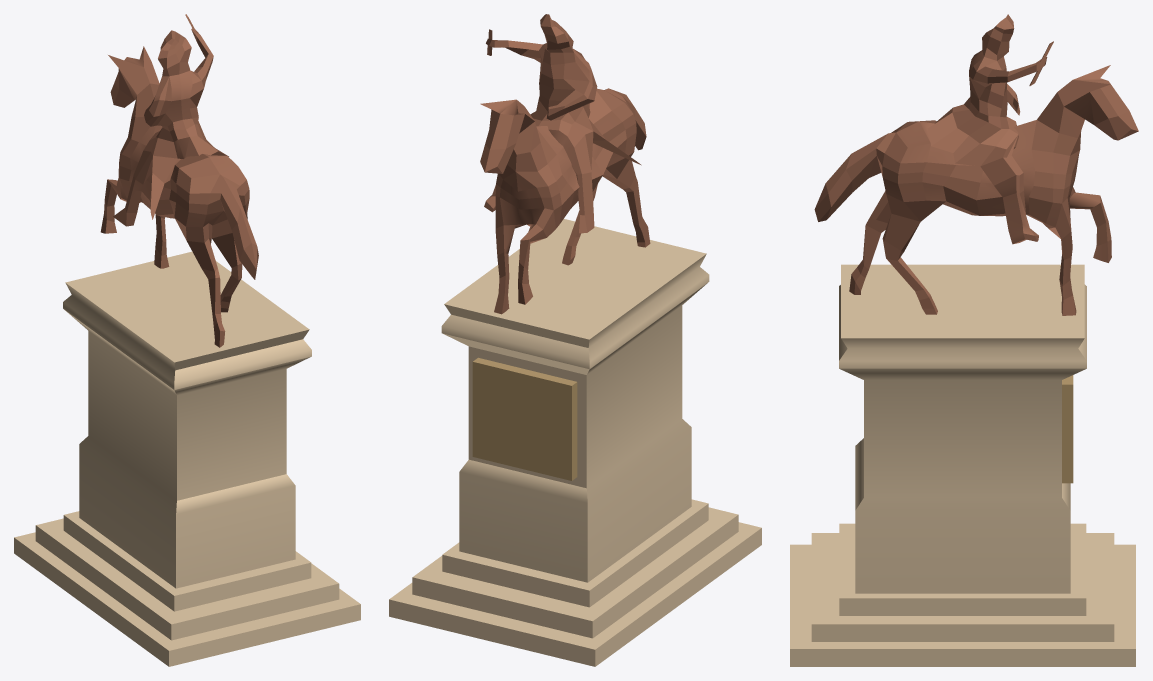
Rendered from Statue.fbx.
3 renders of one model, left to right at view 1: azimuth 30°, elevation 25°; view 2: azimuth 150°, elevation 25°; view 3: azimuth 270°, elevation 25°, orthographic. The views are drawn at different scales.
Visible parts, largest first — view 1: pCube1; view 2: pCube1; view 3: pCube1.
Boxes of the visible parts, <box> form: pCube1: <box>14,14,360,666</box>; pCube1: <box>389,14,761,666</box>; pCube1: <box>790,14,1138,666</box>.
Bounding box in the file's own units: 50 × 135 × 70.63.
